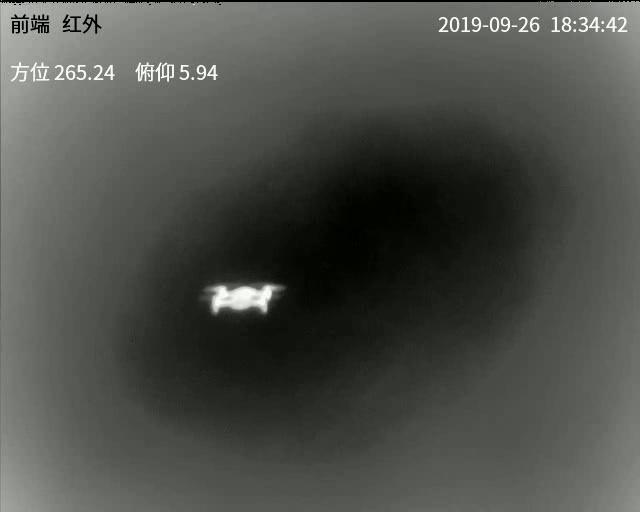DRONE: (204, 284, 282, 315)
